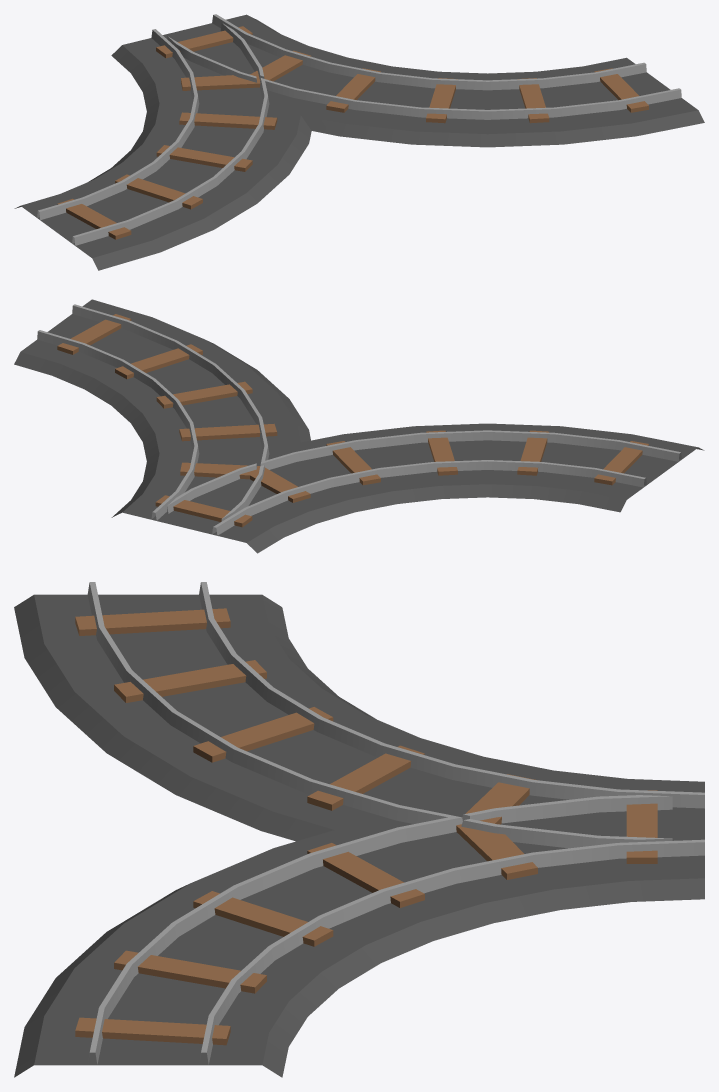
File: 1_Y_curve_small.fbx
The picture shows the model from 3 angles, top to bottom: view 1: azimuth 30°, elevation 25°; view 2: azimuth 150°, elevation 25°; view 3: azimuth 270°, elevation 25°; orthographic projection. The views are drawn at different scales.
Visible parts, largest first — view 1: 1_Y_curve_small; view 2: 1_Y_curve_small; view 3: 1_Y_curve_small.
Boxes of the visible parts, x1,y1,x2,y2 form: 1_Y_curve_small: [14, 14, 704, 270]; 1_Y_curve_small: [14, 299, 704, 553]; 1_Y_curve_small: [14, 582, 704, 1077].
Size of the model in its own units: 8 by 0.2 by 4.96.
